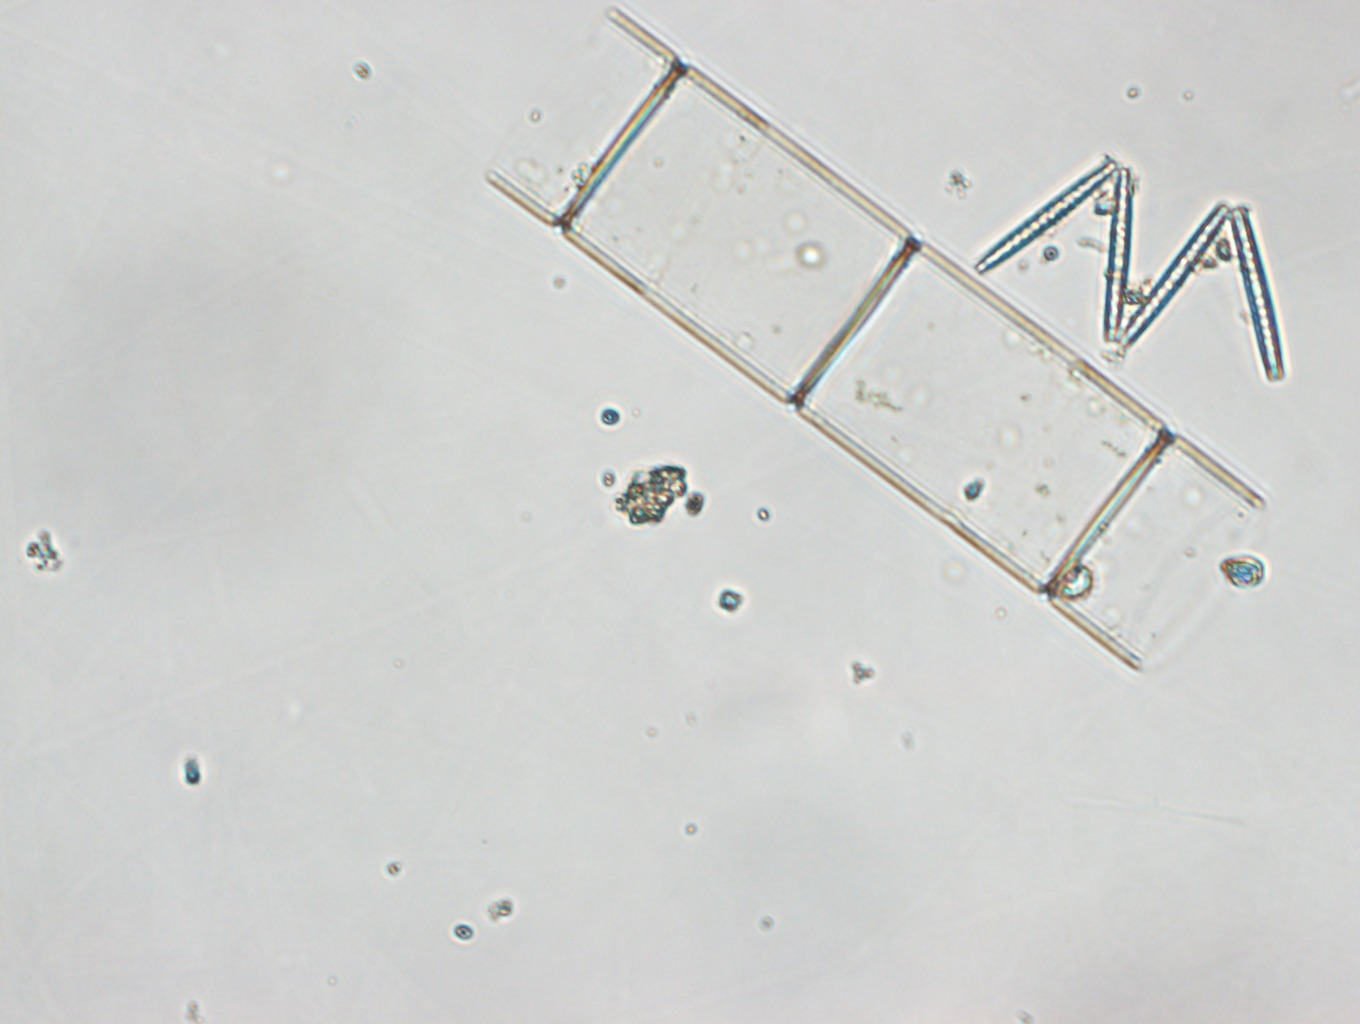guinardia flaccida: (478, 11, 1265, 678)
thalassionema nitzschioides: (967, 148, 1289, 389)
